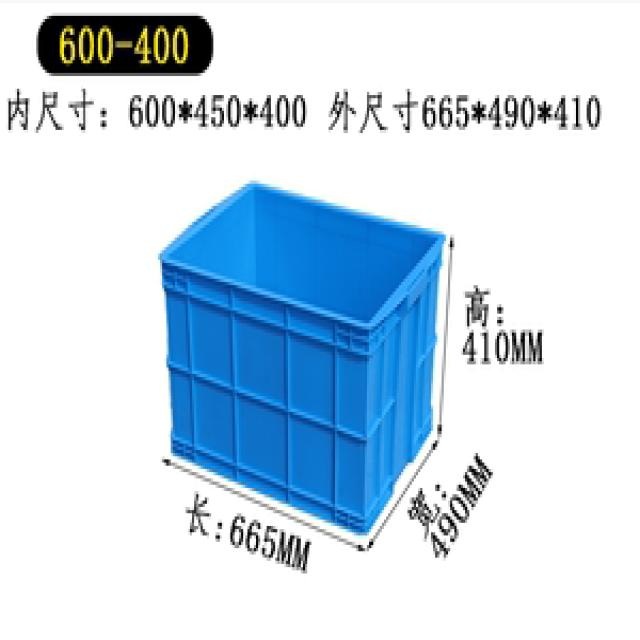basket: (150, 180, 447, 539)
